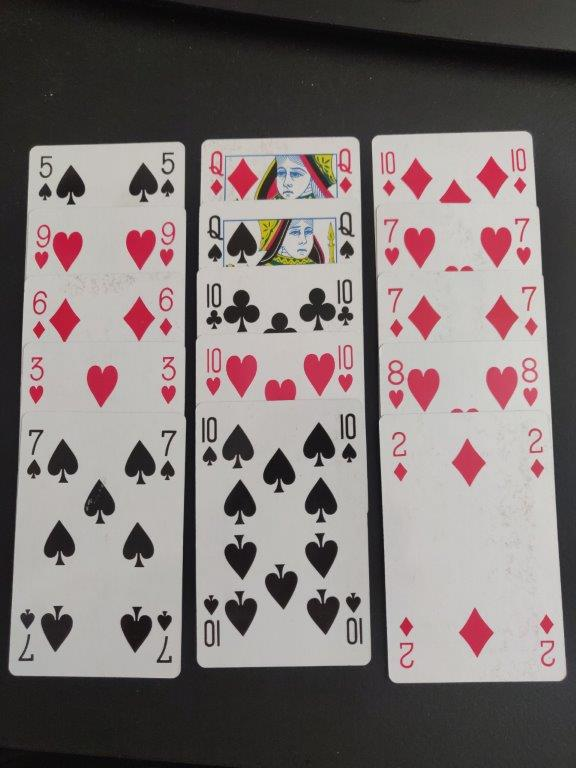10C: (200, 280, 229, 337), (332, 274, 357, 330)
10D: (376, 143, 401, 203), (504, 143, 530, 199)
10H: (334, 339, 361, 398), (199, 343, 226, 399)
10S: (334, 408, 361, 466), (198, 411, 223, 470)
2D: (385, 426, 414, 485), (523, 425, 550, 483)
3H: (25, 351, 48, 409), (157, 349, 178, 409)
5S: (154, 147, 179, 205), (32, 152, 55, 204)
6D: (26, 284, 51, 344), (153, 283, 179, 340)
7D: (380, 281, 409, 343), (518, 280, 544, 339)
7H: (507, 211, 537, 268), (379, 214, 405, 269)
7S: (157, 425, 180, 486), (22, 423, 45, 480)
8H: (383, 356, 412, 415), (514, 351, 543, 410)
9H: (156, 217, 177, 272), (31, 222, 52, 275)
QD: (203, 147, 230, 201), (335, 145, 354, 196)
QS: (334, 207, 359, 265), (203, 210, 226, 269)
